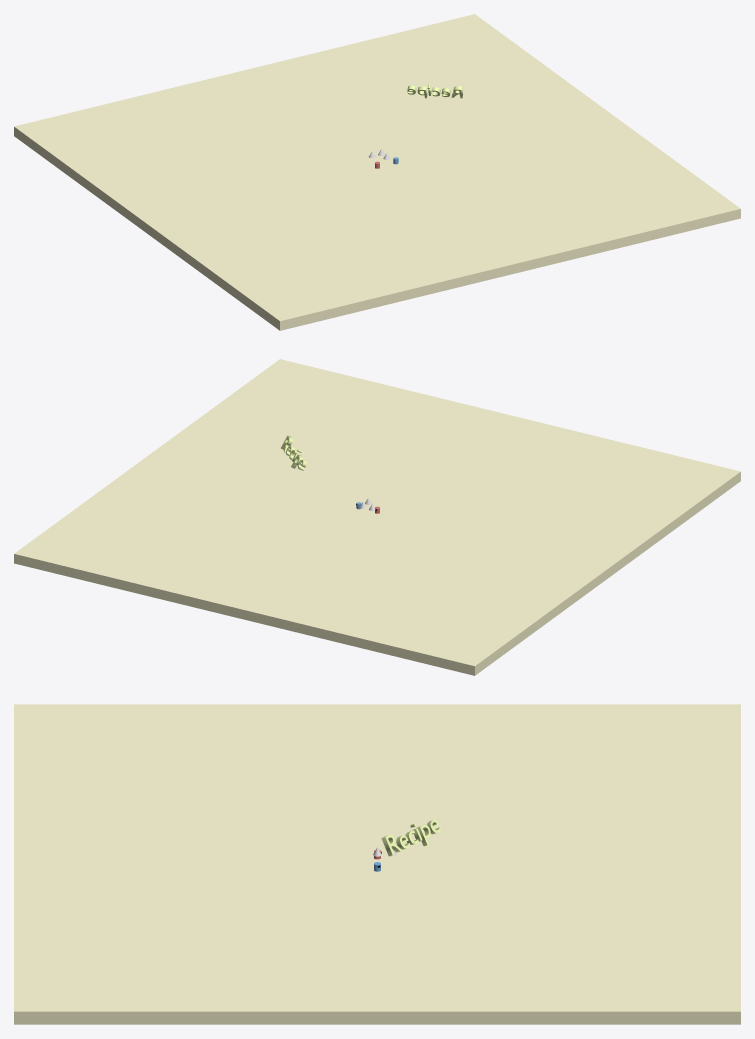
File: inventory_action_test.glb
3 renders of one model, top to bottom at view 1: azimuth 30°, elevation 25°; view 2: azimuth 150°, elevation 25°; view 3: azimuth 270°, elevation 25°, orthographic. The views are drawn at different scales.
Visible parts, largest first — view 1: Floor; view 2: Floor; view 3: Floor, TitleTextMesh.
Boxes of the visible parts, <box> form: Floor: <box>14,14,740,330</box>; Floor: <box>14,359,740,675</box>; Floor: <box>14,704,740,1024</box>; TitleTextMesh: <box>381,820,440,856</box>.
Bounding box in the file's own units: 50 × 7 × 50.
